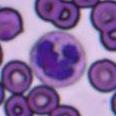N: (30, 31, 86, 88)
